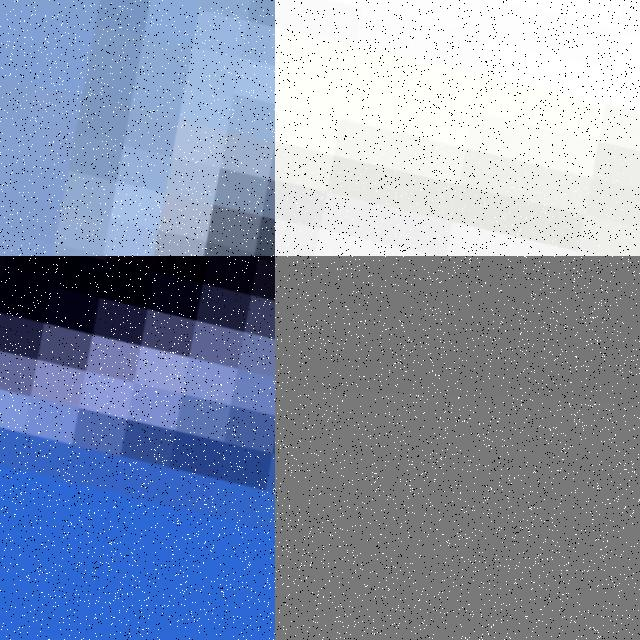0: (0, 256, 275, 640)
drone: (275, 0, 640, 256), (0, 0, 275, 256)
